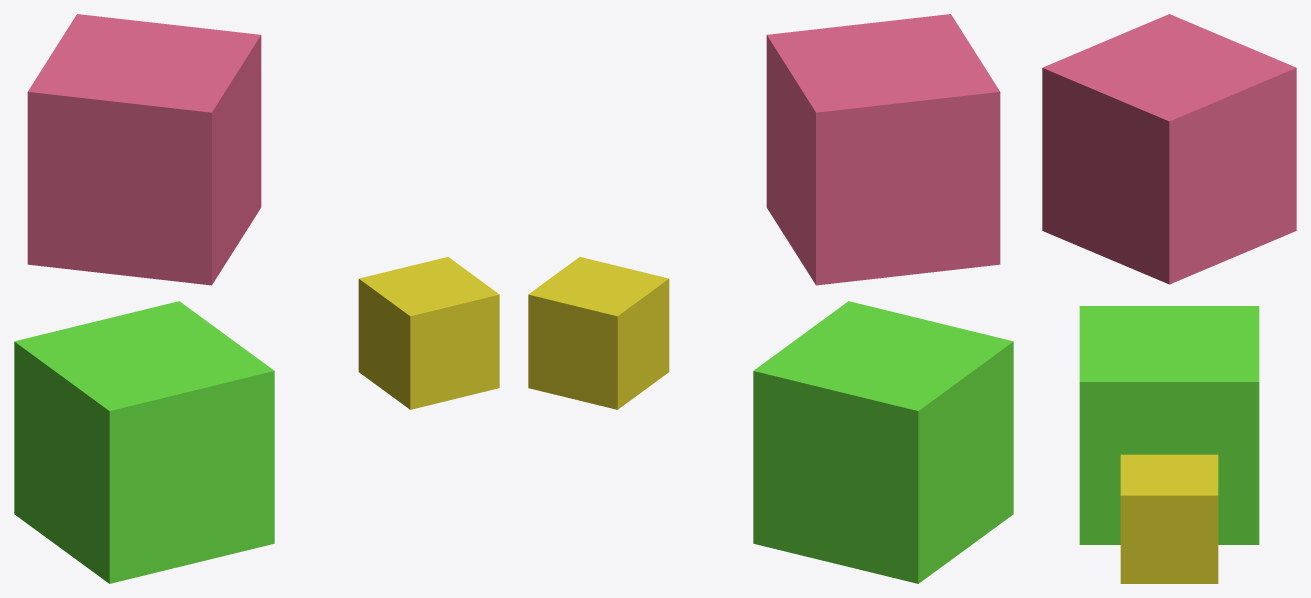
3 renders of one model, left to right at view 1: azimuth 30°, elevation 25°; view 2: azimuth 150°, elevation 25°; view 3: azimuth 270°, elevation 25°, orthographic. The views are drawn at different scales.
Parts seen in each view (by area): view 1: Cube.000, Cube.002, Cube.001; view 2: Cube.000, Cube.002, Cube.001; view 3: Cube.002, Cube.000, Cube.001.
Boxes of the visible parts, x1=… form: Cube.000: x1=14, y1=301, x2=274, y2=583; Cube.002: x1=27, y1=14, x2=261, y2=285; Cube.001: x1=358, y1=257, x2=499, y2=409; Cube.000: x1=753, y1=301, x2=1013, y2=583; Cube.002: x1=766, y1=14, x2=1000, y2=285; Cube.001: x1=528, y1=257, x2=669, y2=409; Cube.002: x1=1042, y1=14, x2=1296, y2=284; Cube.000: x1=1079, y1=306, x2=1259, y2=544; Cube.001: x1=1120, y1=454, x2=1218, y2=583.
Size of the model in its own units: 5.41 by 5.39 by 2.83.
